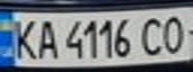1: (97, 16, 118, 58), (81, 16, 100, 60)
4: (60, 16, 84, 60)
6: (112, 15, 139, 58)
A: (33, 16, 60, 61)
C: (136, 14, 169, 57)
K: (6, 15, 42, 61)
O: (157, 11, 190, 55)
